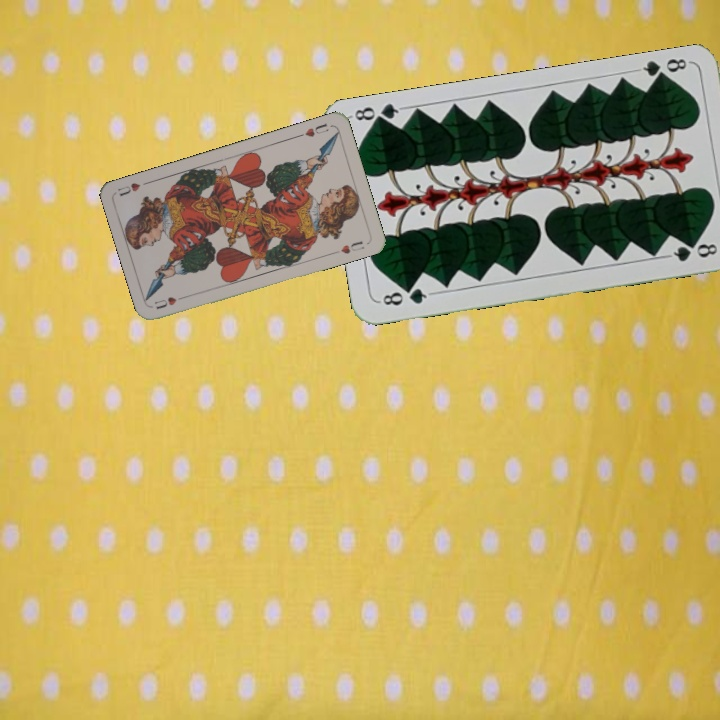G8: (633, 54, 692, 85), (375, 283, 434, 309)
HU: (150, 292, 189, 312), (294, 119, 331, 140)
